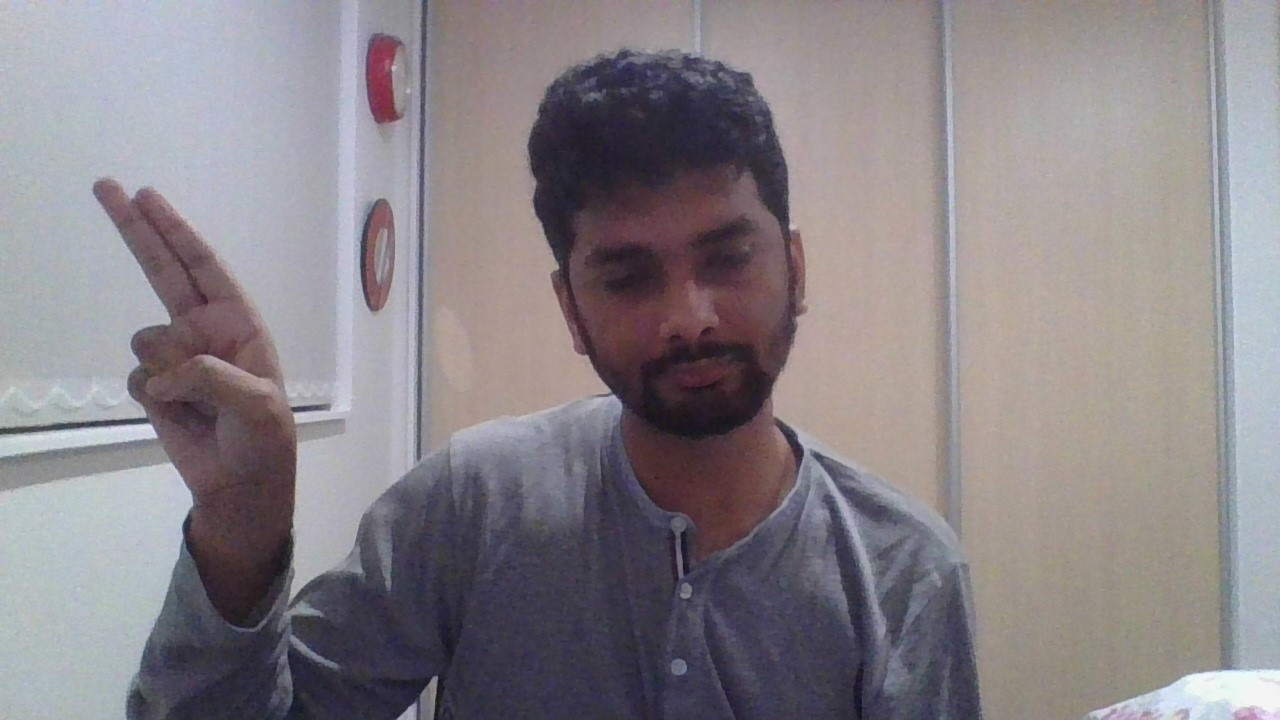peace: (92, 177, 297, 493)
